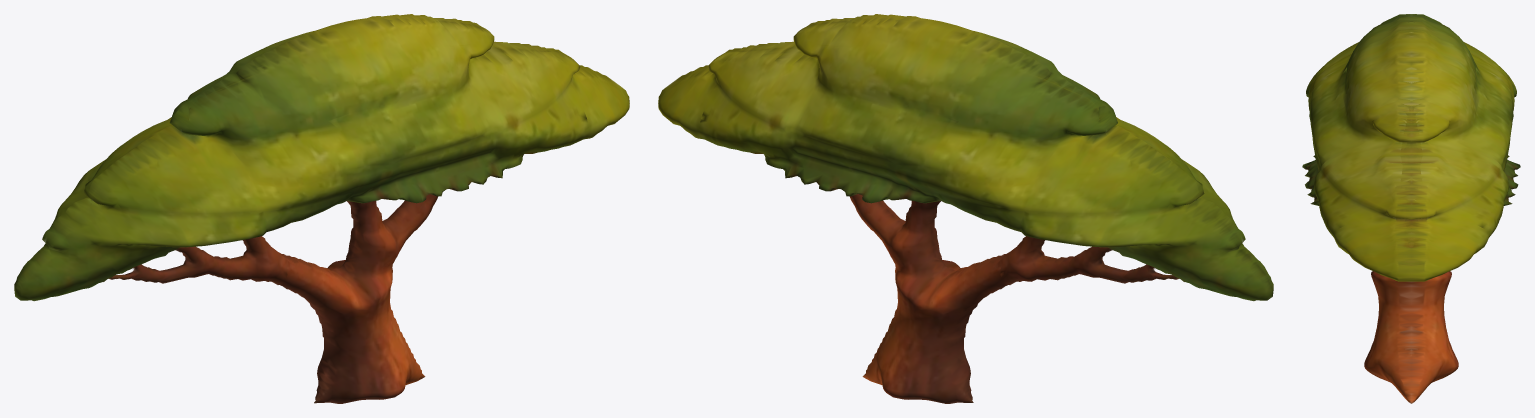
File: 02_acacia_trees_r01_c03.glb
3 renders of one model, left to right at view 1: azimuth 30°, elevation 25°; view 2: azimuth 150°, elevation 25°; view 3: azimuth 270°, elevation 25°, orthographic. The views are drawn at different scales.
Parts seen in each view (by area): view 1: 02_acacia_trees_r01_c03; view 2: 02_acacia_trees_r01_c03; view 3: 02_acacia_trees_r01_c03.
Part boxes in pixels (box(x1,y1,x2,y2)): 02_acacia_trees_r01_c03: box(14, 14, 629, 403); 02_acacia_trees_r01_c03: box(658, 14, 1273, 403); 02_acacia_trees_r01_c03: box(1302, 14, 1520, 403).
Size of the model in its own units: 4.17 by 2.42 by 1.47.
1 material, 1 textured.
